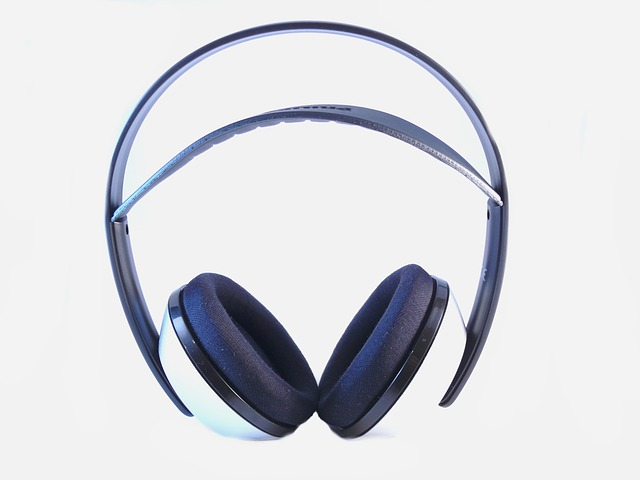headphones: (105, 21, 508, 441)
